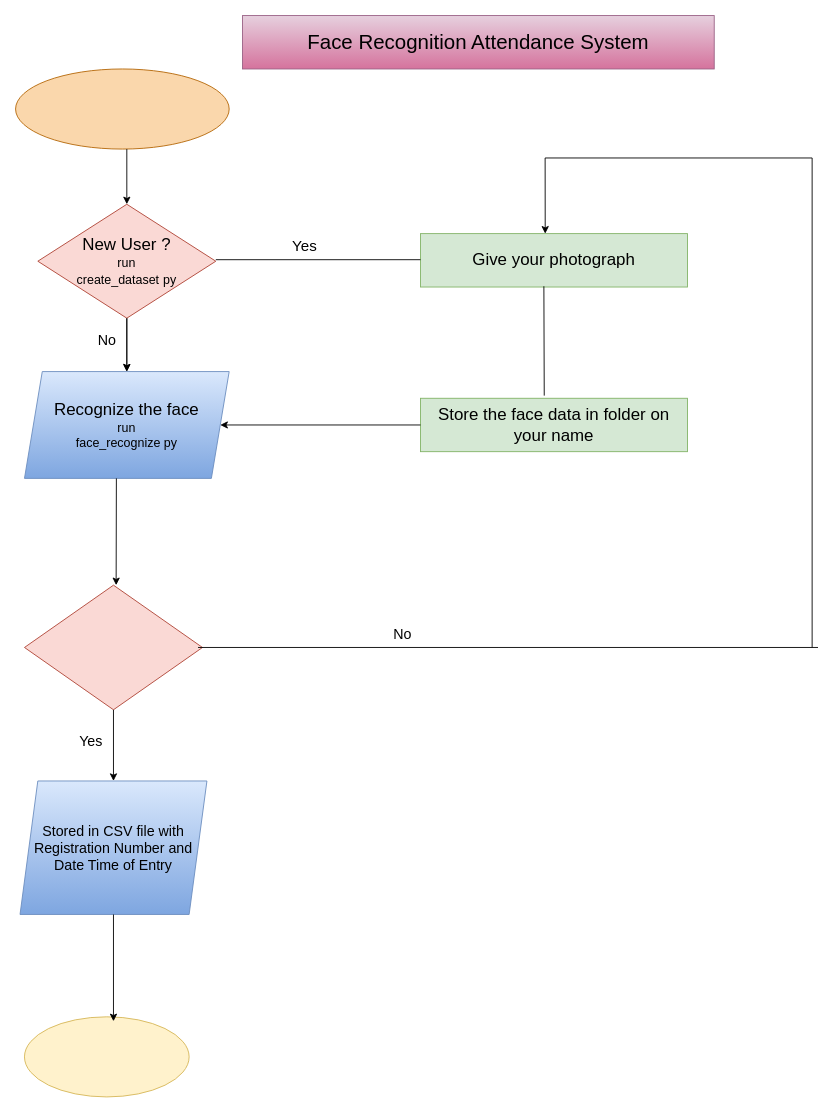
Image size: 835x1113. Some labels were removed from this diagram. The shapes that lost their labels are listed below. From the top down, each one's centre as x and y in pixels, then its label:
the point at 122,108: Start
the point at 113,647: Face Recognizied
the point at 106,1056: End
